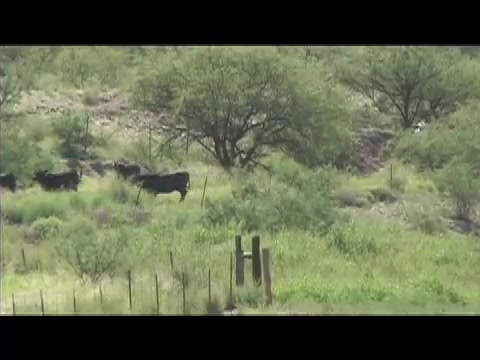cow: (129, 173, 192, 203), (32, 170, 82, 194), (114, 163, 144, 187), (1, 173, 19, 195)
